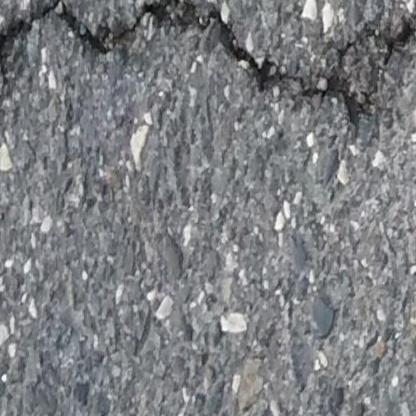Cracks: (0, 0, 416, 138)
